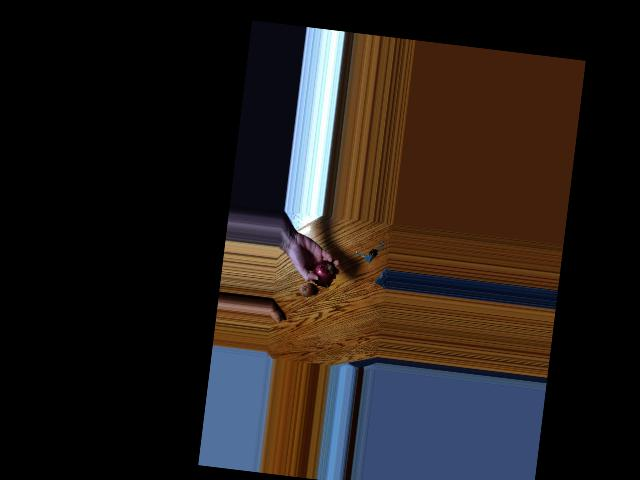onion: (296, 281, 313, 299)
